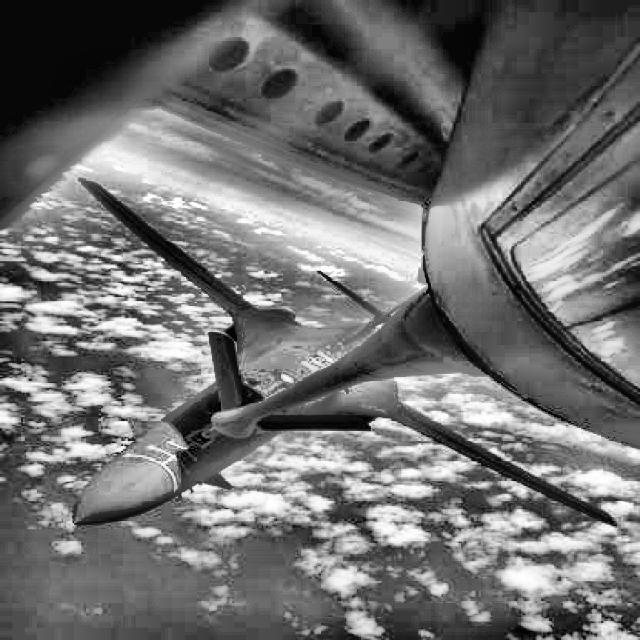B1: (70, 178, 619, 528)
